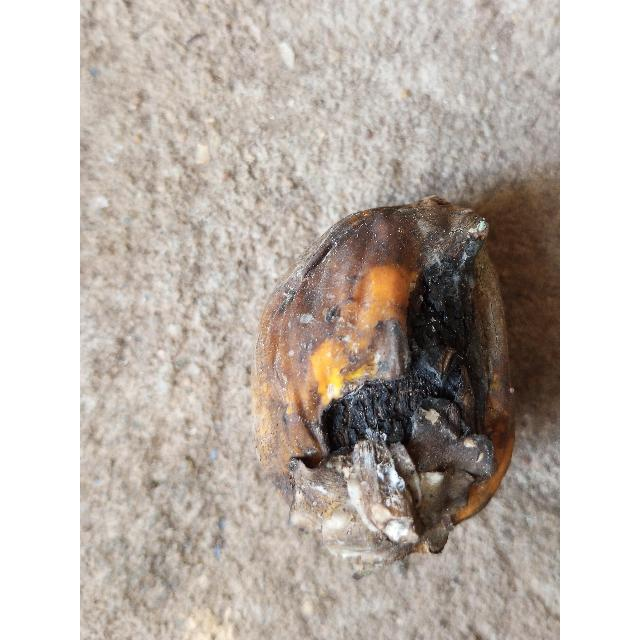damaged: (251, 197, 517, 556)
